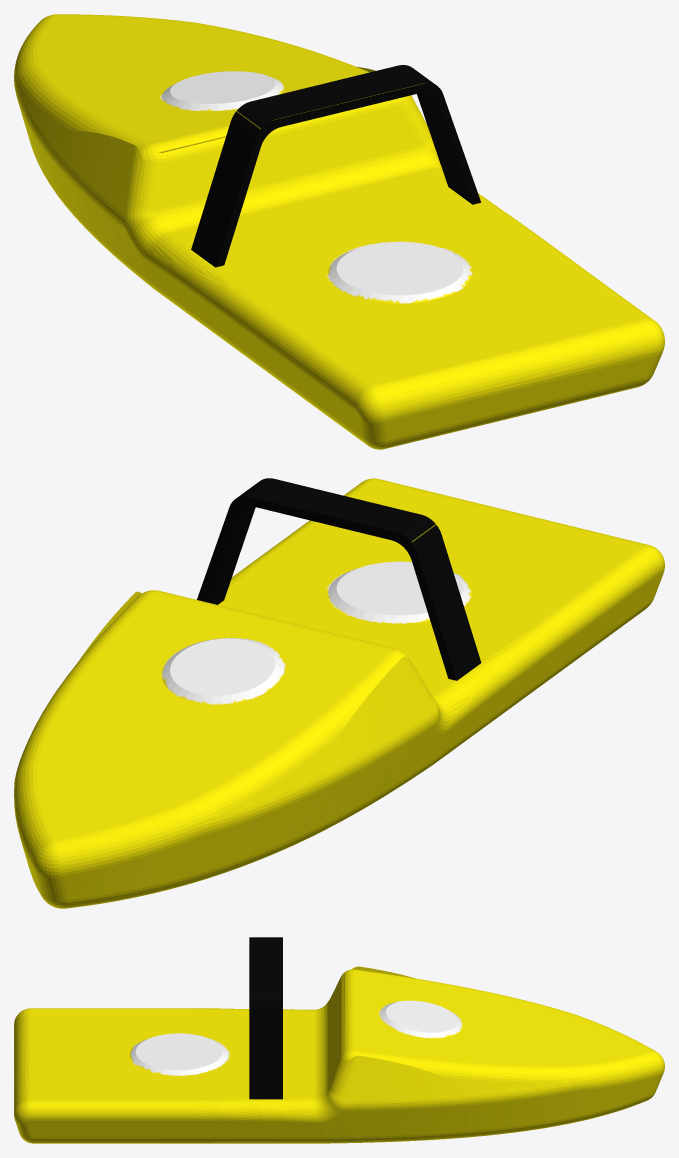
Rendered from monodrone.dae.
The picture shows the model from 3 angles, top to bottom: view 1: azimuth 30°, elevation 25°; view 2: azimuth 150°, elevation 25°; view 3: azimuth 270°, elevation 25°; orthographic projection. The views are drawn at different scales.
Parts seen in each view (by area): view 1: monodrone; view 2: monodrone; view 3: monodrone.
Part boxes in pixels (x1,y1,x2,y2): monodrone: [14, 14, 664, 449]; monodrone: [14, 478, 664, 908]; monodrone: [14, 937, 664, 1143].
Size of the model in its own units: 0.7315 by 1.94 by 0.45.
1 material, 1 textured.
